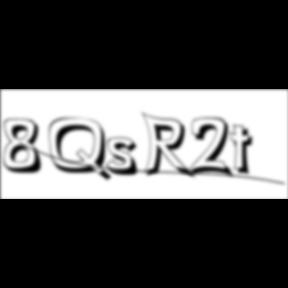2: (188, 117, 238, 181)
8: (3, 117, 48, 176)
Q: (49, 117, 115, 184)
R: (142, 112, 198, 182)
s: (106, 137, 146, 179)
t: (230, 124, 260, 179)
